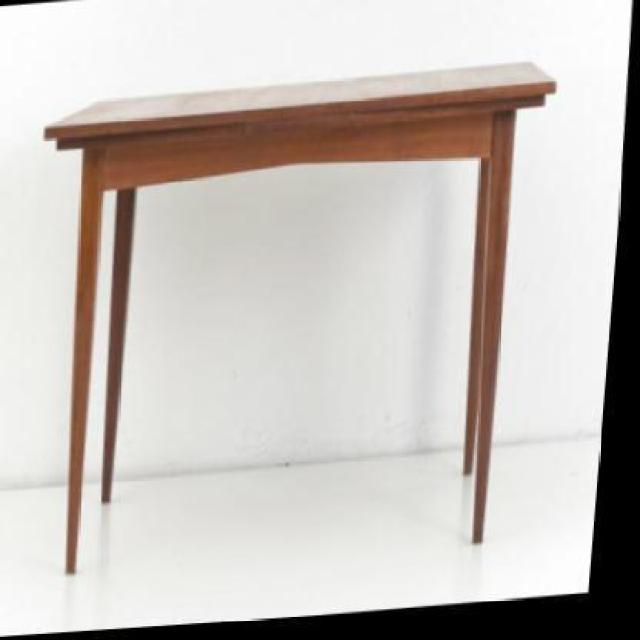tables: (41, 58, 557, 574)
